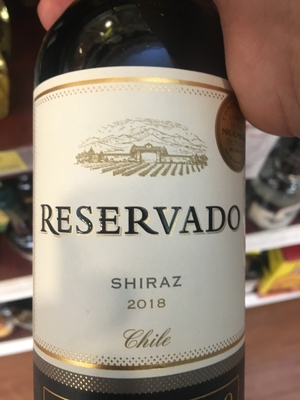reservado shiraz: (31, 16, 254, 400)
